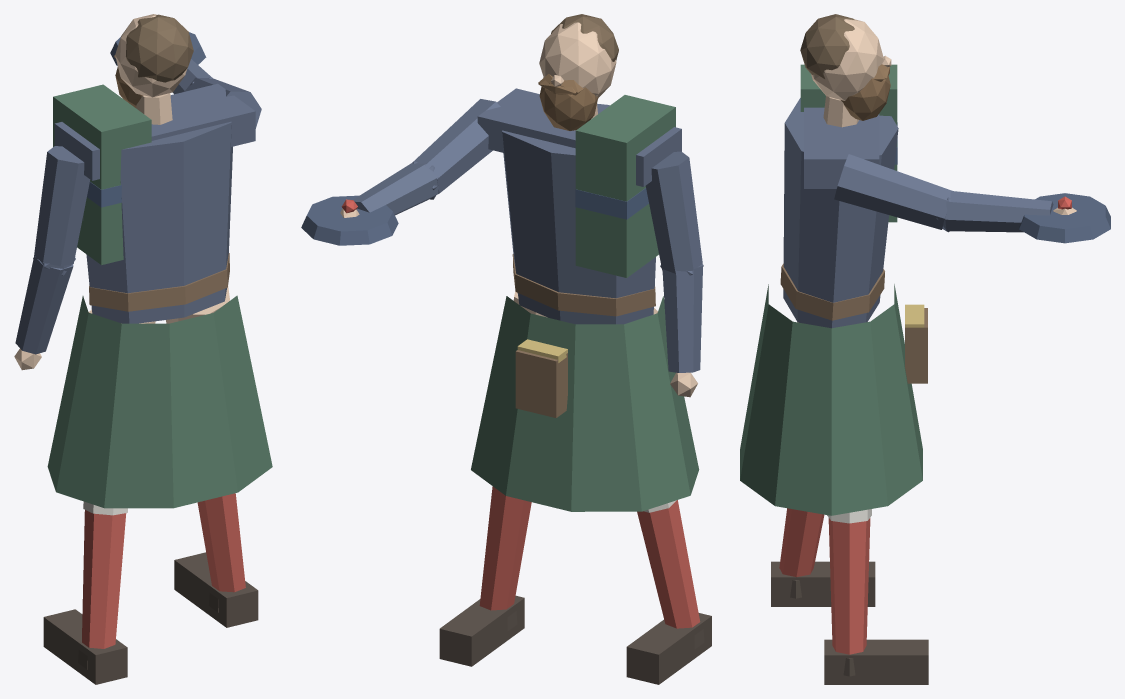
Rendered from dundonnachie_begging_penny.glb.
The picture shows the model from 3 angles, left to right: view 1: azimuth 30°, elevation 25°; view 2: azimuth 150°, elevation 25°; view 3: azimuth 270°, elevation 25°; orthographic projection.
Visible parts, largest first — view 1: tartan_g, wool_navy, hose_red, boot, hair, skin, leather, tartan_b, beard, bonnet_blue; view 2: tartan_g, wool_navy, hose_red, boot, leather, skin, bonnet_blue, beard, tartan_b, hair, brass; view 3: tartan_g, wool_navy, hose_red, boot, skin, leather, bonnet_blue, hair, beard.
Part boxes in pixels (bbox=[...]): tartan_g: bbox=[47, 84, 272, 508]; wool_navy: bbox=[15, 59, 261, 354]; hose_red: bbox=[82, 493, 245, 648]; boot: bbox=[43, 552, 258, 684]; hair: bbox=[126, 14, 193, 82]; skin: bbox=[14, 14, 229, 370]; leather: bbox=[89, 253, 229, 311]; tartan_b: bbox=[87, 182, 121, 207]; beard: bbox=[114, 55, 143, 107]; bonnet_blue: bbox=[110, 32, 206, 65]; tartan_g: bbox=[471, 95, 699, 511]; wool_navy: bbox=[353, 88, 703, 372]; hose_red: bbox=[479, 486, 700, 628]; boot: bbox=[439, 595, 711, 684]; leather: bbox=[512, 254, 655, 417]; skin: bbox=[340, 22, 697, 397]; bonnet_blue: bbox=[301, 195, 398, 245]; beard: bbox=[538, 74, 598, 130]; tartan_b: bbox=[575, 188, 648, 219]; hair: bbox=[551, 14, 618, 61]; brass: bbox=[517, 339, 567, 362]; tartan_g: bbox=[740, 64, 922, 515]; wool_navy: bbox=[783, 98, 1053, 328]; hose_red: bbox=[779, 508, 870, 654]; boot: bbox=[771, 561, 928, 684]; skin: bbox=[797, 19, 1076, 322]; leather: bbox=[780, 263, 927, 383]; bonnet_blue: bbox=[1019, 193, 1110, 243]; hair: bbox=[800, 14, 854, 79]; beard: bbox=[840, 64, 890, 120].
Size of the model in its own units: 0.8771 by 1.85 by 0.998.
